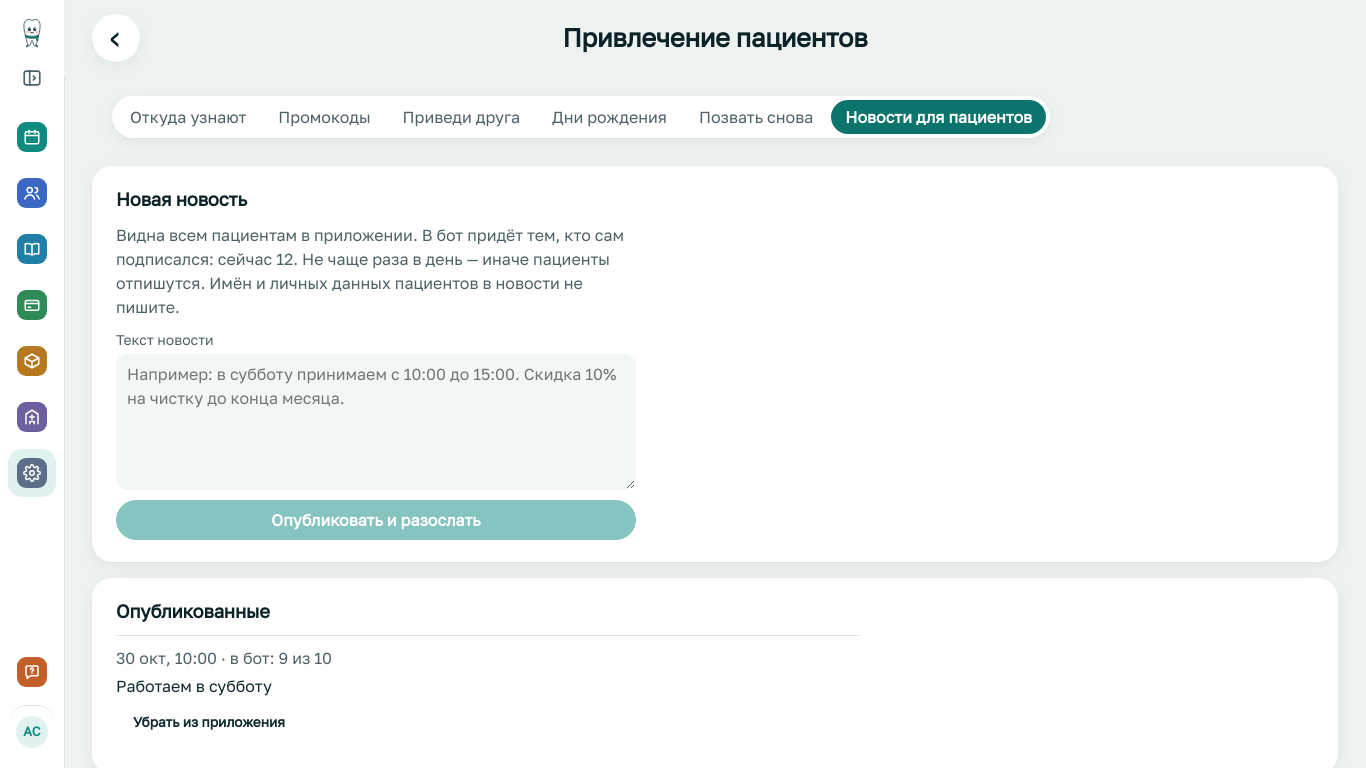
Test: новости: опубликовать с подтверждением и убрать
expect the text "30 окт, 10:00 · в бот: 9 из 10" is shown: met, box left=116, top=646, right=332, bottom=670
Type "Скидка на чистку" into the text box labelled "Текст новости" at (376, 422), box left=116, top=354, right=636, bottom=490
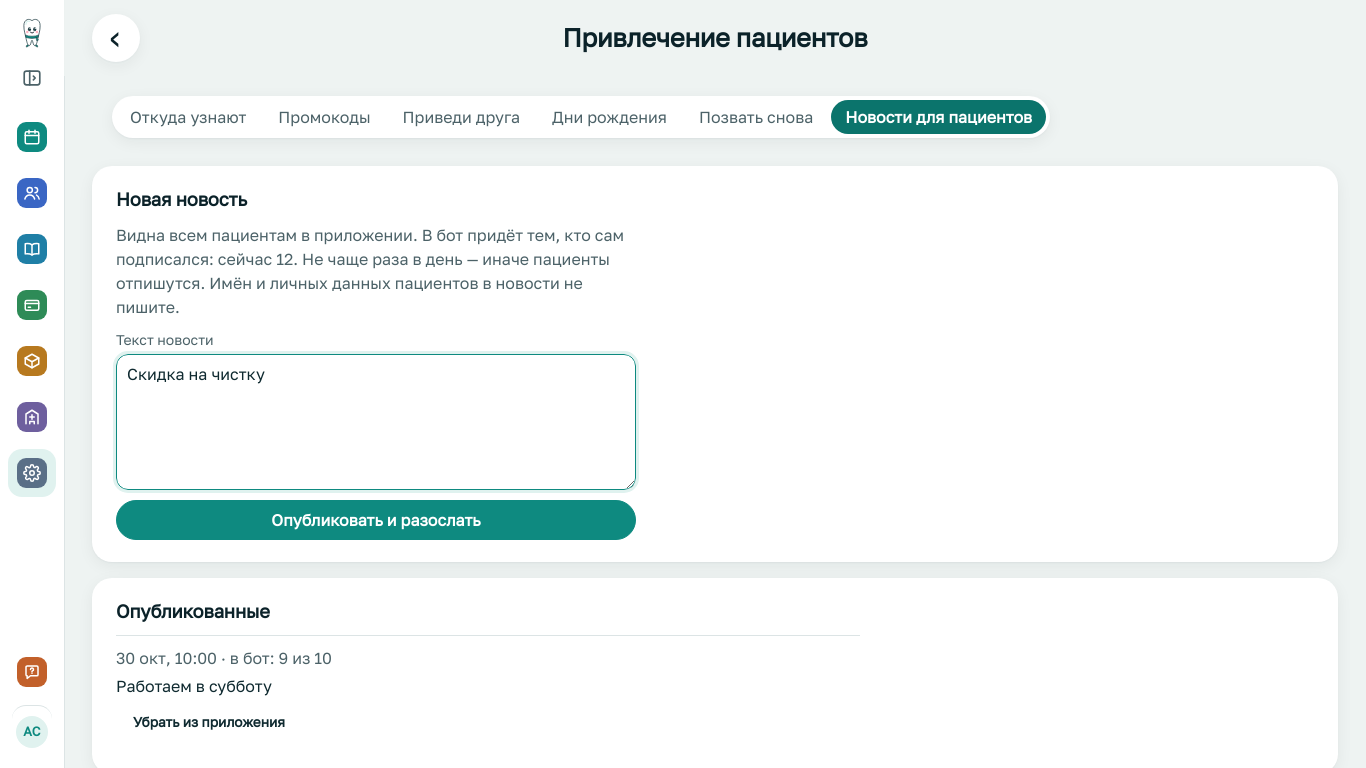
Click the button "Опубликовать и разослать" at (376, 520), box left=116, top=500, right=636, bottom=540
(page scrolled)
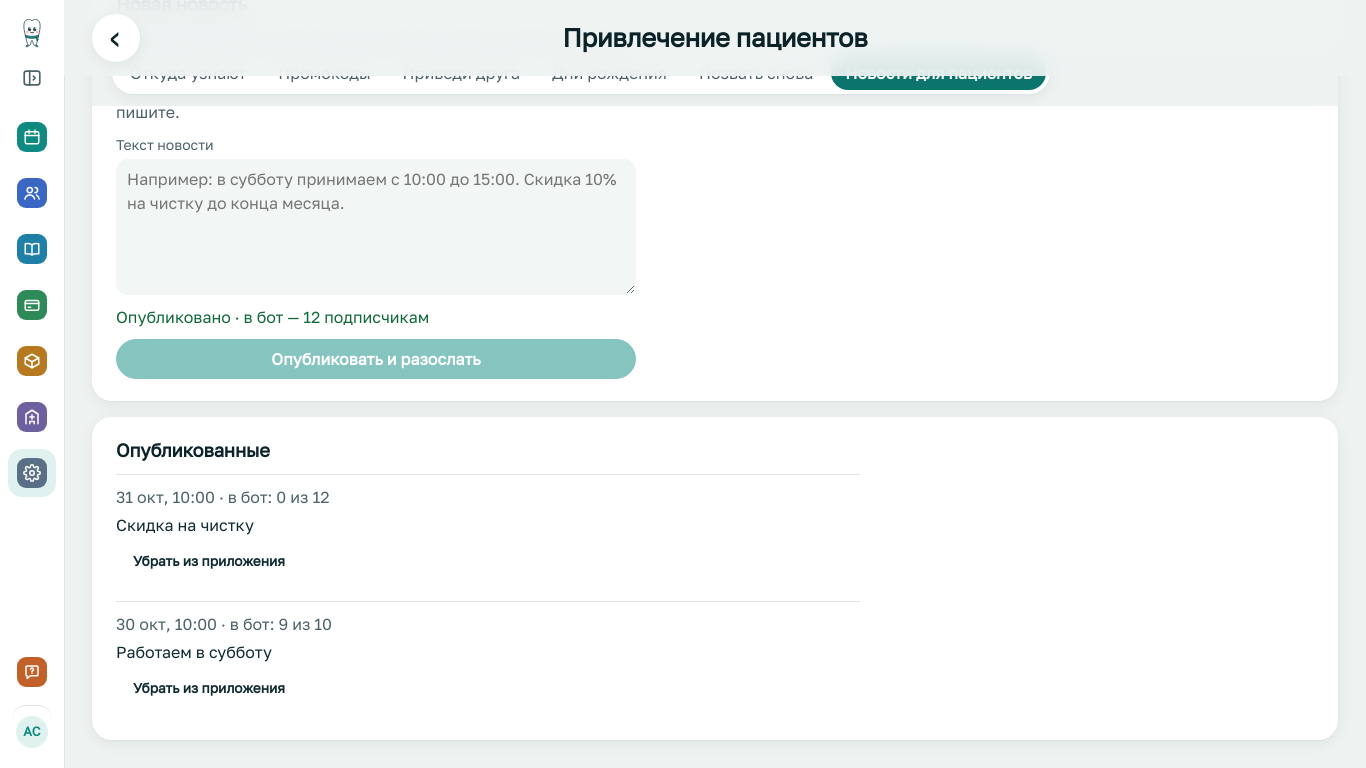
expect the text "Опубликовано · в бот — 12 подписчикам" is shown: met, box left=116, top=307, right=429, bottom=327
Click the button "Убрать из приложения" below "30 окт, 10:00" at (209, 688), box left=116, top=668, right=302, bottom=708
(page scrolled)
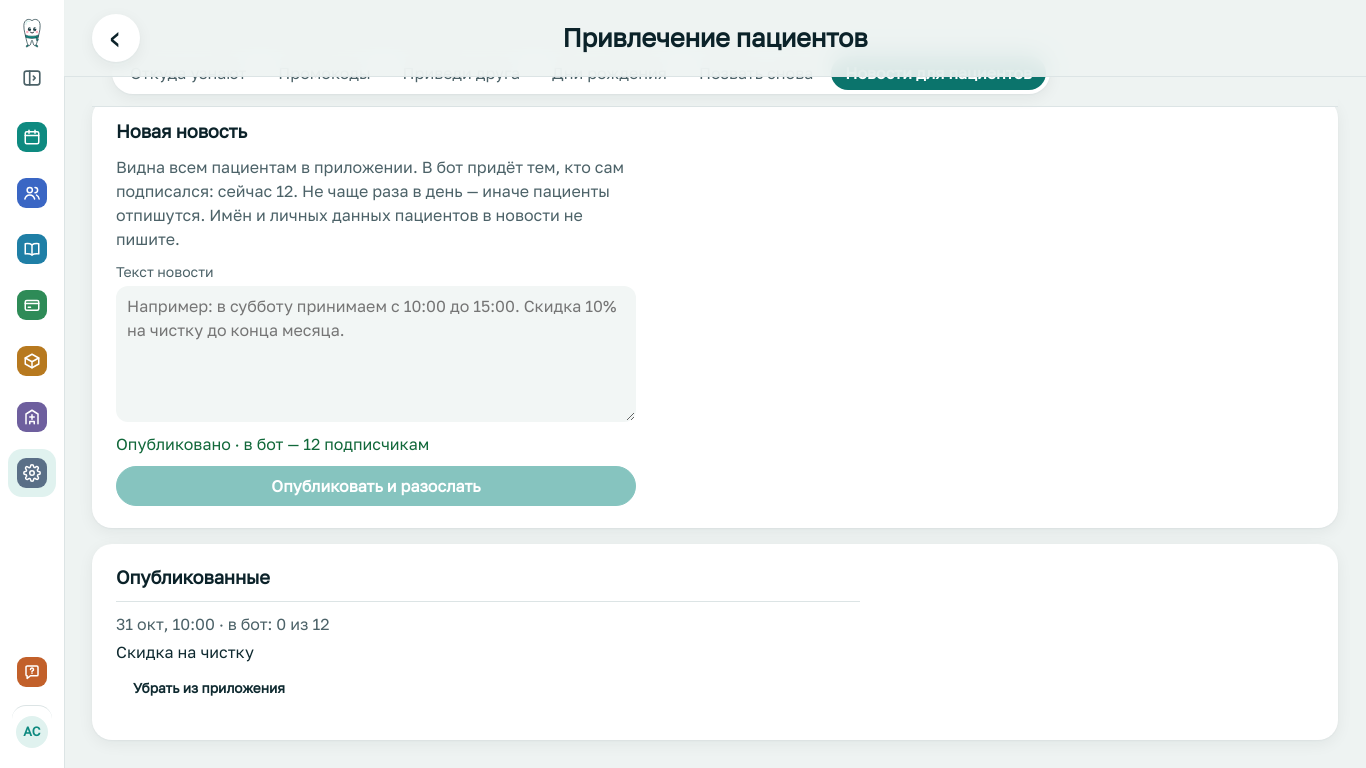
expect the text "Работаем в субботу" is gone: met
